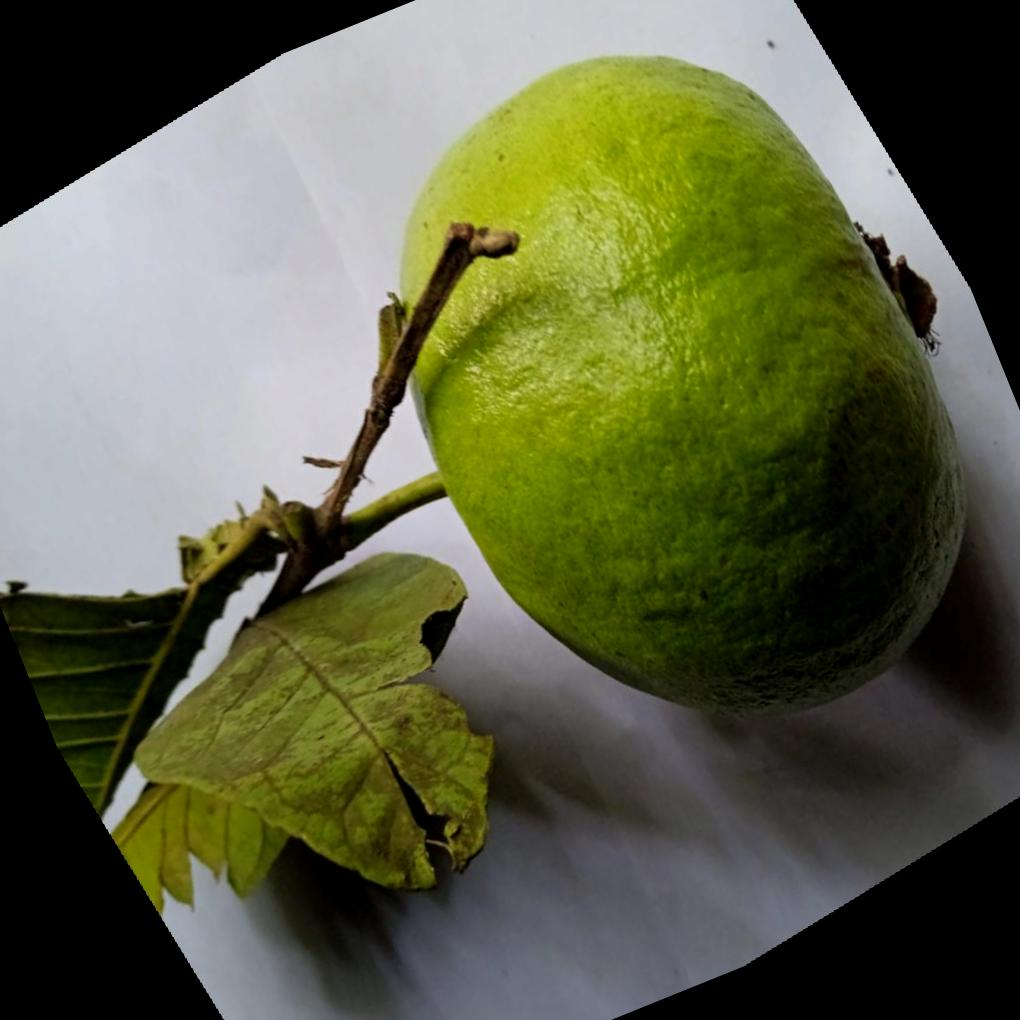FreshGuava: (367, 49, 969, 717)
